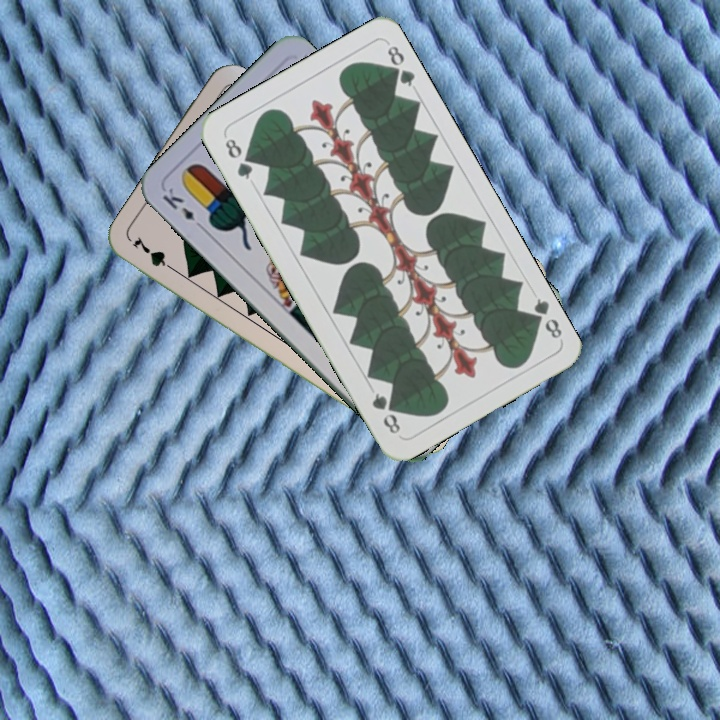EK: (158, 183, 207, 232)
G7: (128, 232, 181, 276)
G8: (524, 294, 565, 342), (220, 134, 256, 183)
